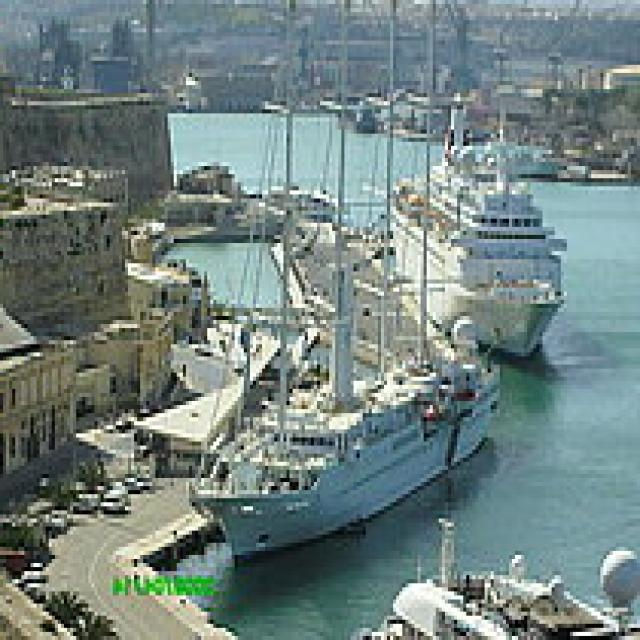Cruise: (189, 247, 509, 555), (393, 85, 576, 357)
